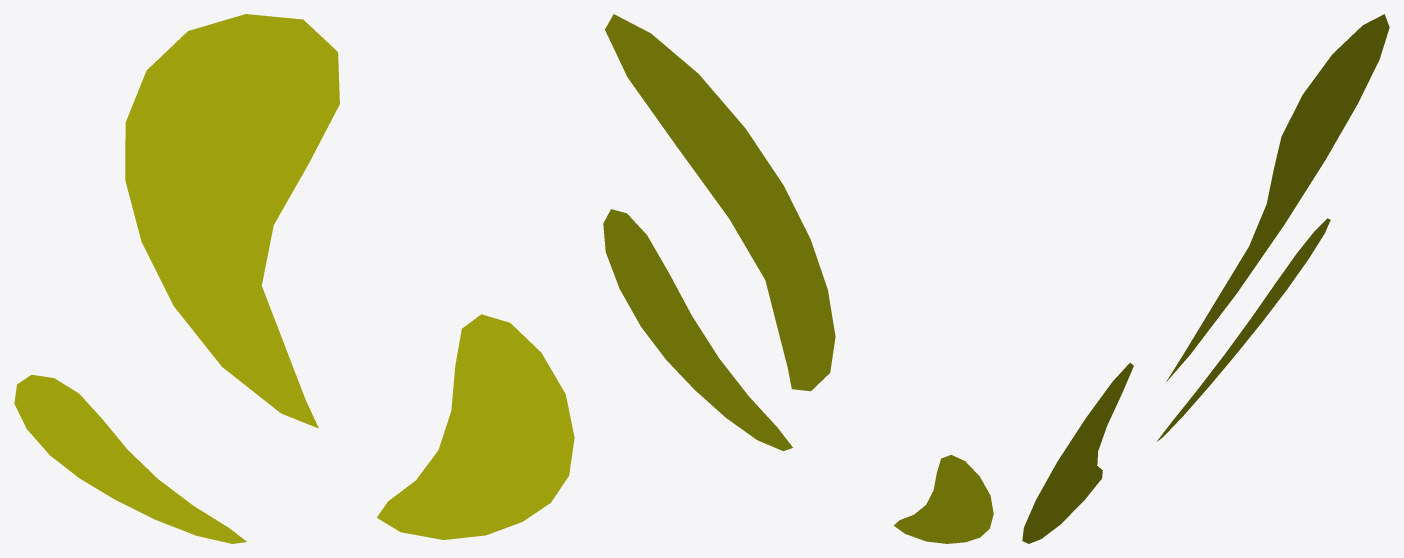
Rendered from yellow_frower2.fbx.
3 renders of one model, left to right at view 1: azimuth 30°, elevation 25°; view 2: azimuth 150°, elevation 25°; view 3: azimuth 270°, elevation 25°, orthographic. The views are drawn at different scales.
Visible parts, largest first — view 1: frower_yellow2; view 2: frower_yellow2; view 3: frower_yellow2.
Part boxes in pixels (bbox=[...]): frower_yellow2: bbox=[14, 14, 574, 543]; frower_yellow2: bbox=[603, 14, 993, 543]; frower_yellow2: bbox=[1022, 14, 1389, 543].
Bounding box in the file's own units: 22.5 × 22 × 15.6.
